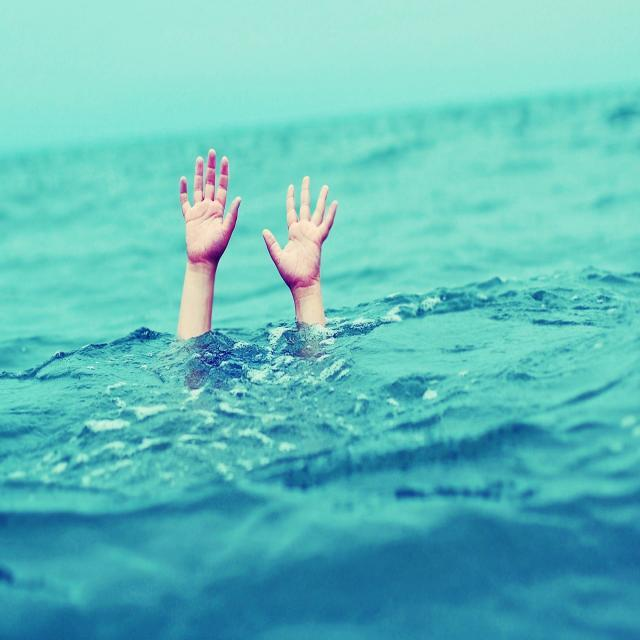Out of Water: (143, 120, 362, 402)
